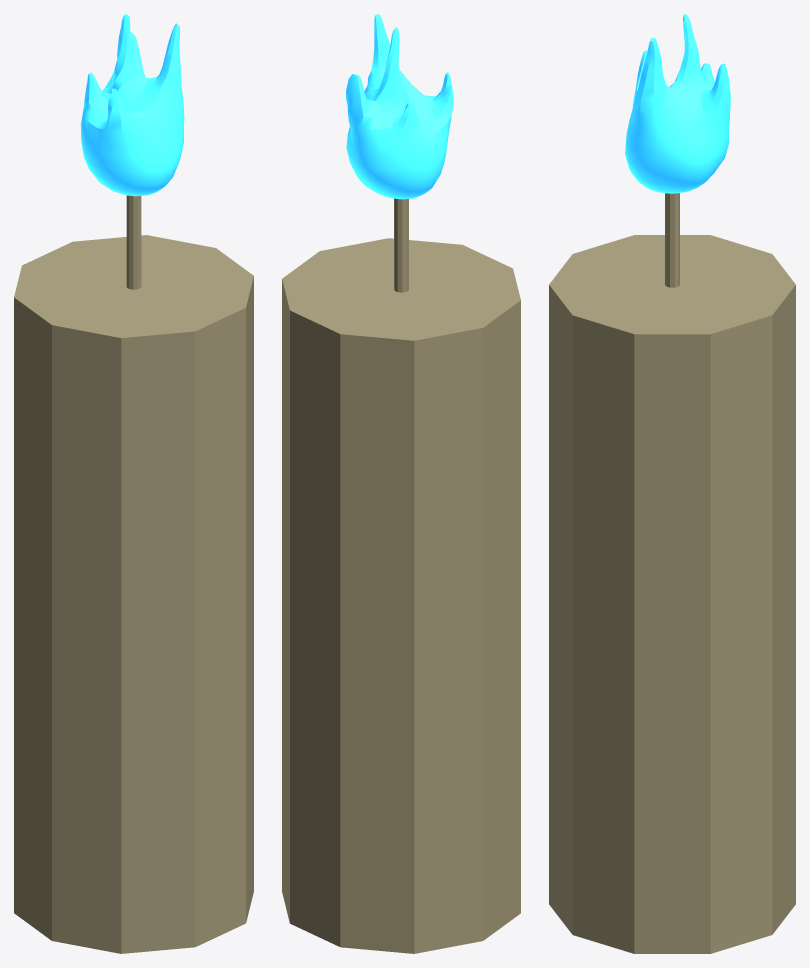
Rendered from Candle_Blu_3.fbx.
3 renders of one model, left to right at view 1: azimuth 30°, elevation 25°; view 2: azimuth 150°, elevation 25°; view 3: azimuth 270°, elevation 25°, orthographic.
Parts seen in each view (by area): view 1: Candle 1.001; view 2: Candle 1.001; view 3: Candle 1.001.
Part boxes in pixels (bbox=[...]): Candle 1.001: bbox=[14, 14, 253, 953]; Candle 1.001: bbox=[282, 14, 520, 953]; Candle 1.001: bbox=[549, 14, 795, 953].
Bounding box in the file's own units: 22.83 × 95.46 × 24.
